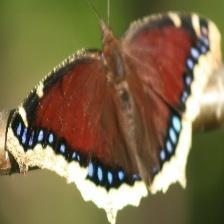butterfly: (0, 11, 224, 224)
